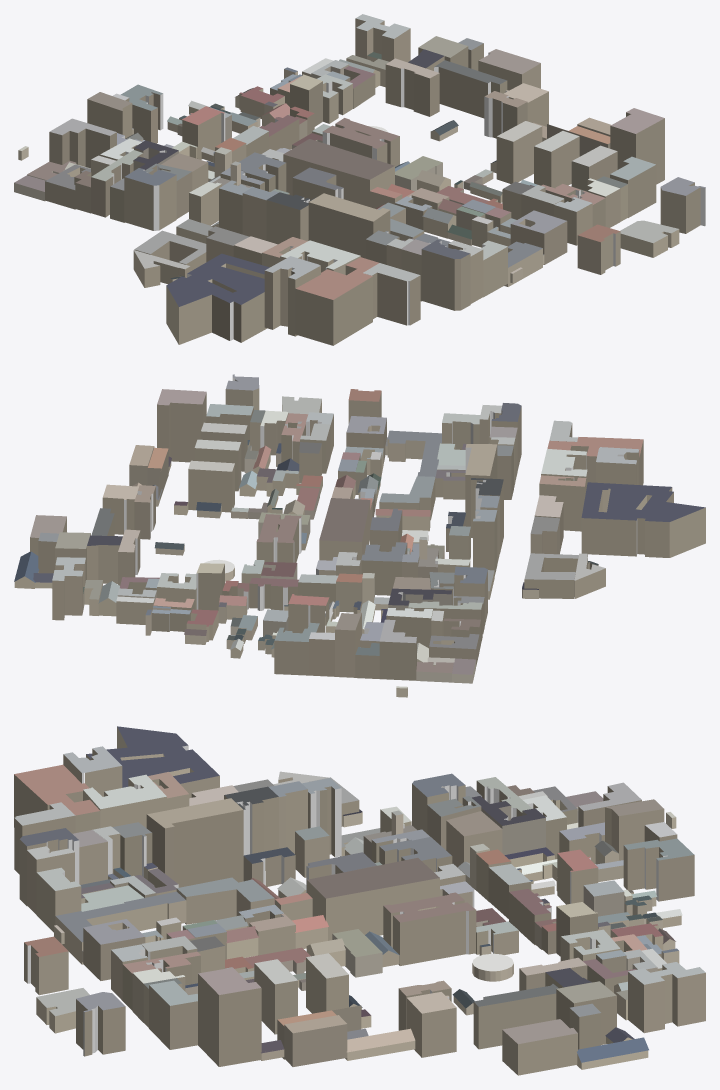
3 views of the same model, one above another, from view 1: azimuth 30°, elevation 25°; view 2: azimuth 150°, elevation 25°; view 3: azimuth 270°, elevation 25° (orthographic). The views are drawn at different scales.
Parts seen in each view (by area): view 1: tuile; view 2: tuile; view 3: tuile.
Part boxes in pixels (box(x1,y1,x2,y2)): tuile: box(14, 14, 705, 345); tuile: box(14, 374, 705, 697); tuile: box(14, 726, 705, 1075).
Bounding box in the file's own units: 284 × 37.11 × 274.
